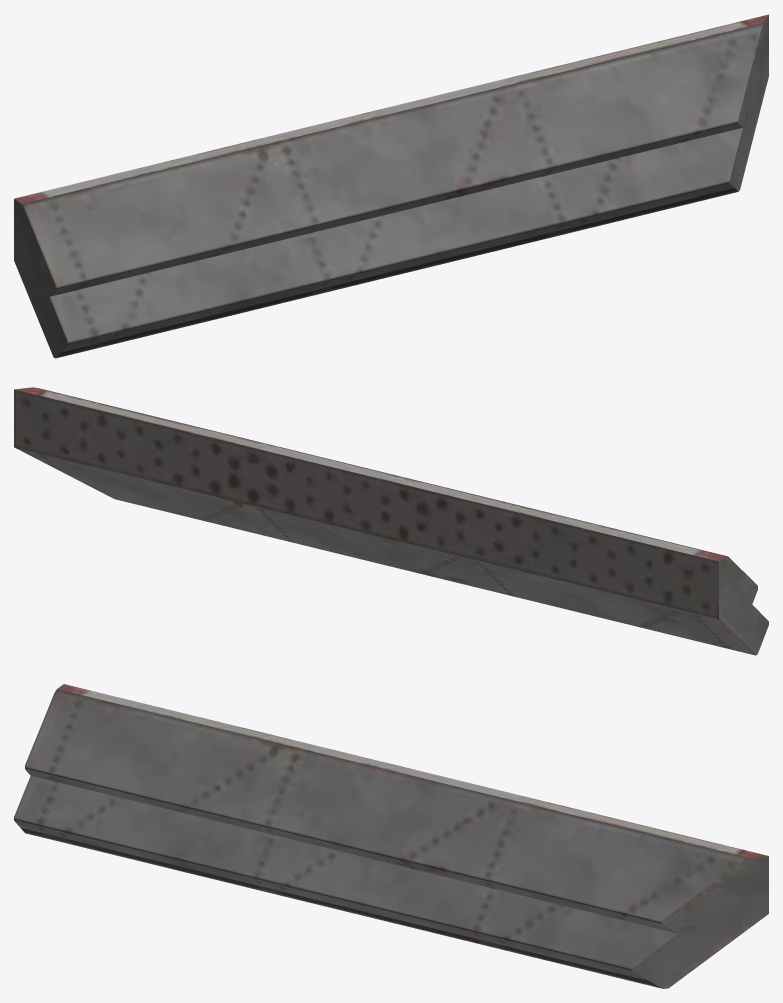
Rendered from roof.spacestation.corner.90.concave.r.top.line.glb.
The picture shows the model from 3 angles, top to bottom: view 1: azimuth 30°, elevation 25°; view 2: azimuth 150°, elevation 25°; view 3: azimuth 330°, elevation 25°; orthographic projection. The views are drawn at different scales.
Parts seen in each view (by area): view 1: roof.spacestation.corner.90.concave.R.top.line; view 2: roof.spacestation.corner.90.concave.R.top.line; view 3: roof.spacestation.corner.90.concave.R.top.line.
Boxes of the visible parts, left/top/right/bottom form: roof.spacestation.corner.90.concave.R.top.line: left=14, top=14, right=768, bottom=358; roof.spacestation.corner.90.concave.R.top.line: left=14, top=387, right=768, bottom=655; roof.spacestation.corner.90.concave.R.top.line: left=14, top=684, right=768, bottom=988.
Bounding box in the file's own units: 3 × 0.4922 × 0.3679.
Materials: 1 (1 with a texture image).
